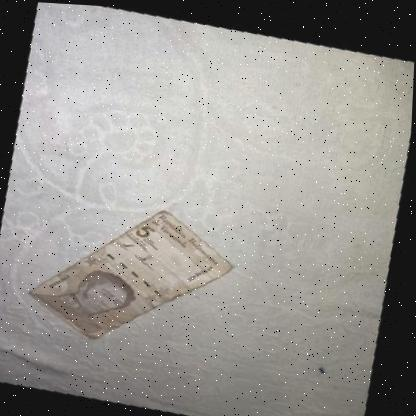five-front-vef: (21, 179, 244, 366)
